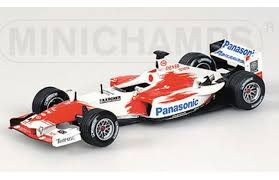FormulaOneCar: (7, 37, 271, 151)
